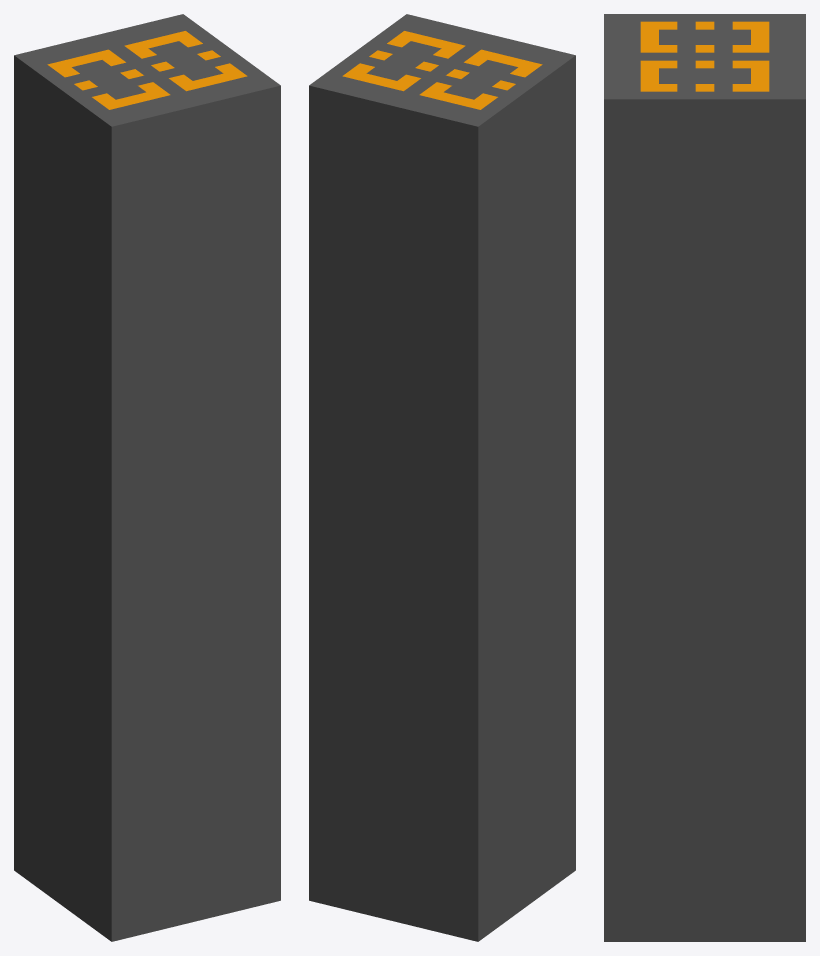
The model's file is Decorations_Concretecube.fbx.
The picture shows the model from 3 angles, left to right: view 1: azimuth 30°, elevation 25°; view 2: azimuth 150°, elevation 25°; view 3: azimuth 270°, elevation 25°; orthographic projection. The views are drawn at different scales.
Visible parts, largest first — view 1: ConcreteCube; view 2: ConcreteCube; view 3: ConcreteCube.
Boxes of the visible parts, x1,y1,x2,y2 form: ConcreteCube: [14, 14, 280, 941]; ConcreteCube: [309, 14, 575, 941]; ConcreteCube: [604, 14, 805, 941].
Bounding box in the file's own units: 3200 × 14730 × 3200.
1 material, 1 textured.
